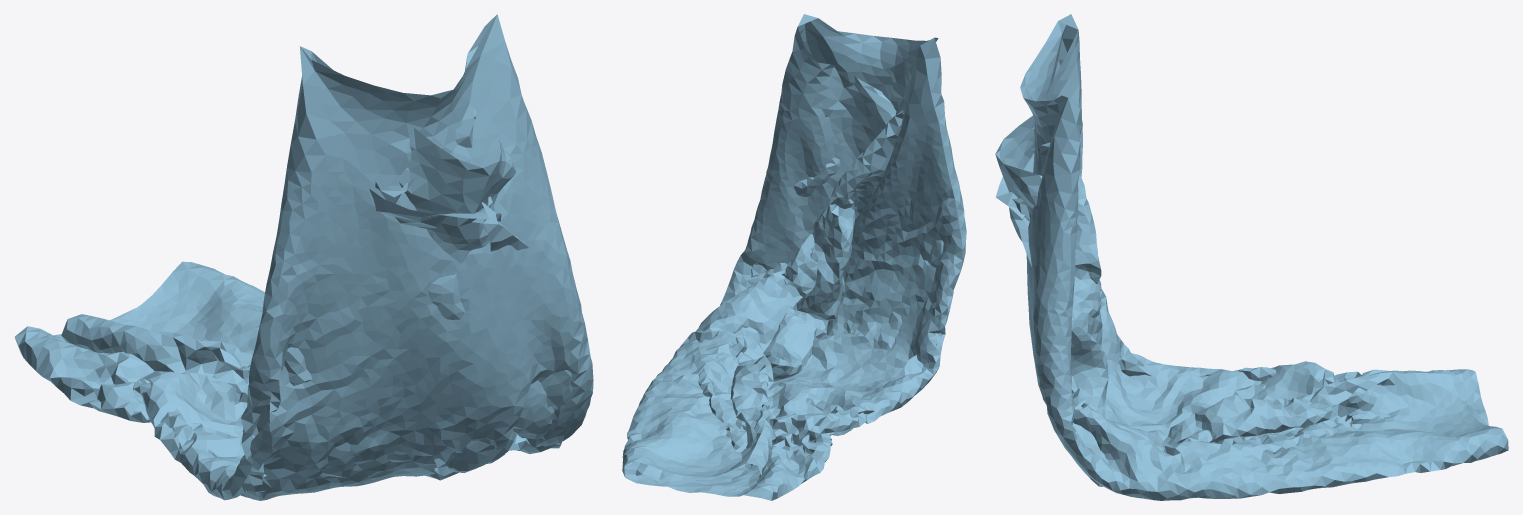
File: frame_09.glb
3 renders of one model, left to right at view 1: azimuth 30°, elevation 25°; view 2: azimuth 150°, elevation 25°; view 3: azimuth 270°, elevation 25°, orthographic. The views are drawn at different scales.
Visible parts, largest first — view 1: frame_09.obj; view 2: frame_09.obj; view 3: frame_09.obj.
Part boxes in pixels (x1,y1,x2,y2): frame_09.obj: (14, 14, 593, 500); frame_09.obj: (622, 14, 966, 500); frame_09.obj: (995, 14, 1508, 500).
Bounding box in the file's own units: 0.8156 × 1.12 × 1.35.
